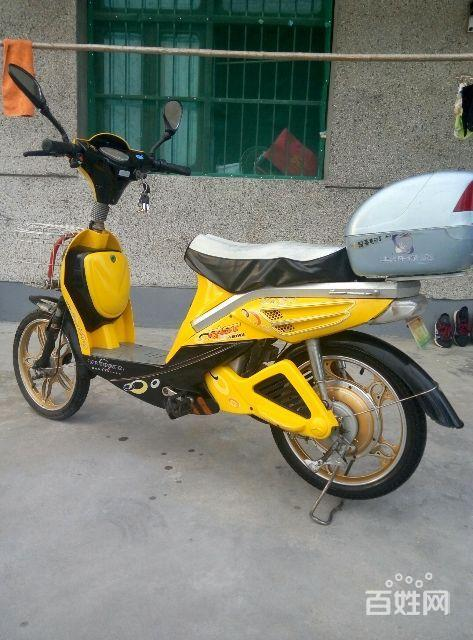电动车: (5, 59, 465, 544)
